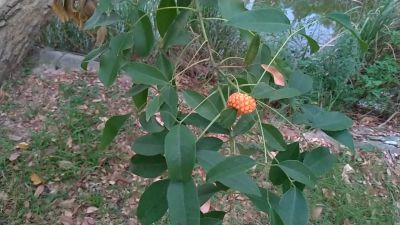eggs: (229, 89, 256, 114)
